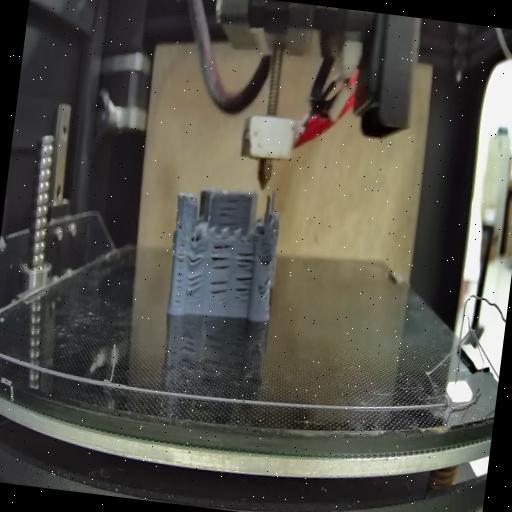cracks: (213, 192, 242, 230), (170, 244, 188, 304), (210, 243, 234, 271), (206, 280, 231, 306), (233, 273, 253, 303), (186, 246, 208, 270), (186, 269, 204, 295), (236, 252, 255, 272), (260, 248, 274, 264), (177, 216, 184, 232), (263, 276, 272, 288)
